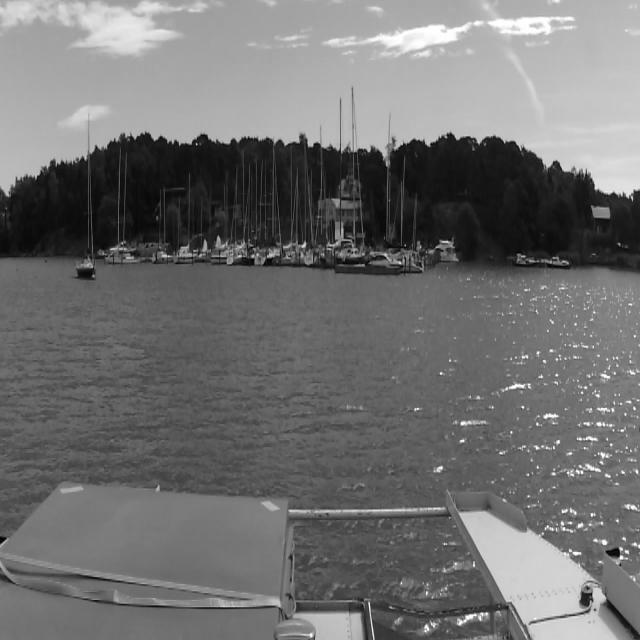ship: (378, 110, 422, 273), (331, 86, 363, 260), (104, 149, 140, 263), (253, 140, 280, 266), (76, 112, 96, 277), (302, 122, 324, 266), (227, 148, 250, 265), (282, 143, 299, 266), (174, 171, 195, 262), (210, 172, 226, 264), (153, 189, 171, 263), (364, 250, 406, 273), (198, 193, 210, 261), (426, 240, 458, 264), (544, 255, 570, 270), (514, 252, 540, 266)
